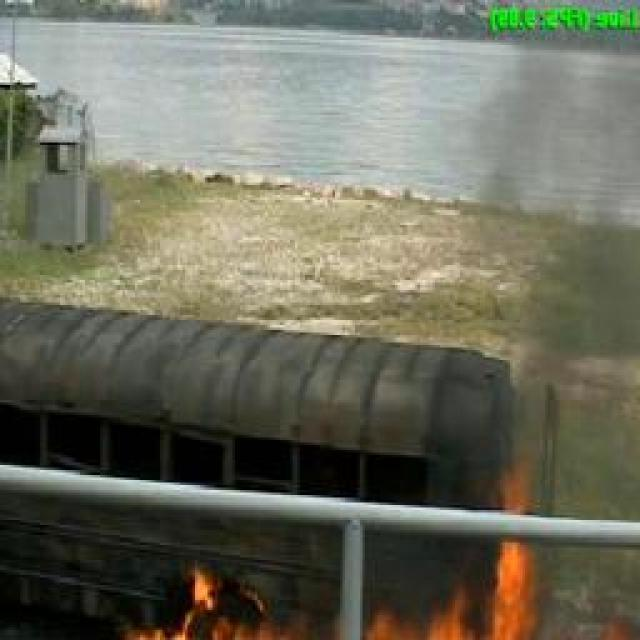Fire: (393, 536, 536, 640), (137, 572, 287, 640)
